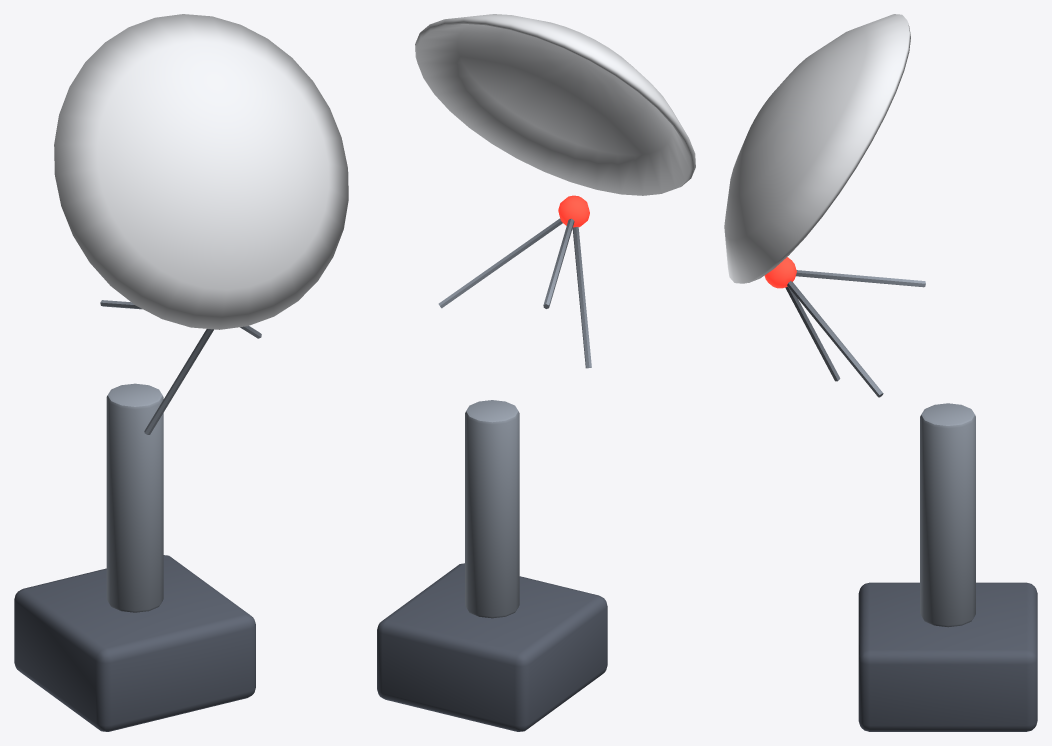
The model's file is sp_dish.glb.
3 renders of one model, left to right at view 1: azimuth 30°, elevation 25°; view 2: azimuth 150°, elevation 25°; view 3: azimuth 270°, elevation 25°, orthographic. The views are drawn at different scales.
Visible parts, largest first — view 1: sp_dish; view 2: sp_dish; view 3: sp_dish.
Boxes of the visible parts, x1=… form: sp_dish: x1=14, y1=14, x2=348, y2=731; sp_dish: x1=377, y1=14, x2=695, y2=731; sp_dish: x1=724, y1=14, x2=1037, y2=731.
Size of the model in its own units: 2.83 by 6.57 by 2.8.
